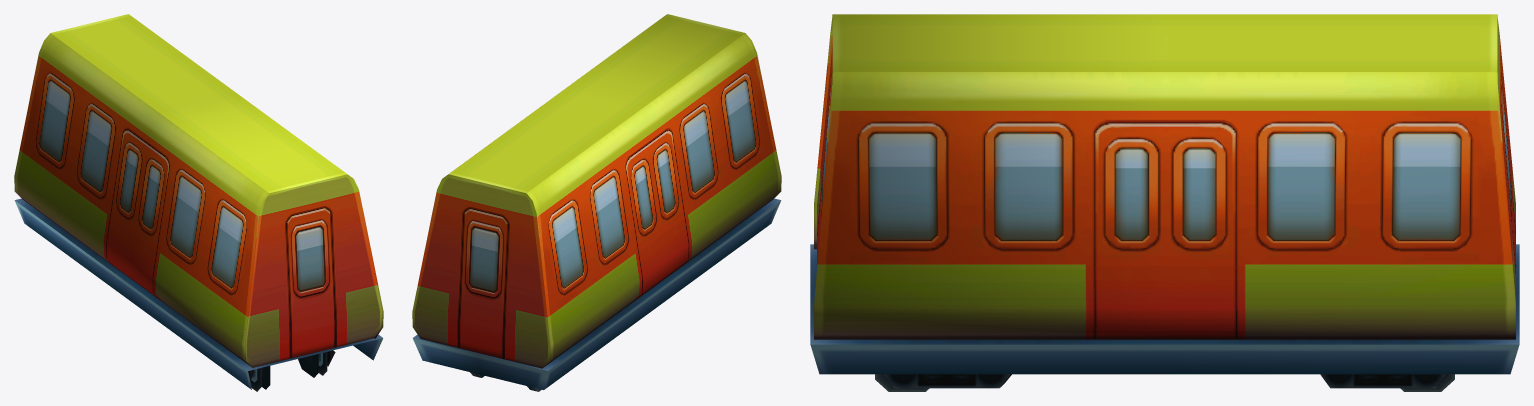
The model's file is Train 01.fbx.
3 views of the same model, side by side, from view 1: azimuth 30°, elevation 25°; view 2: azimuth 150°, elevation 25°; view 3: azimuth 270°, elevation 25° (orthographic). The views are drawn at different scales.
Parts seen in each view (by area): view 1: default.008; view 2: default.008; view 3: default.008.
Part boxes in pixels (x1,y1,x2,y2): default.008: [14, 14, 383, 391]; default.008: [412, 14, 781, 391]; default.008: [810, 14, 1519, 391].
Size of the model in its own units: 1885 by 2784 by 5513.
